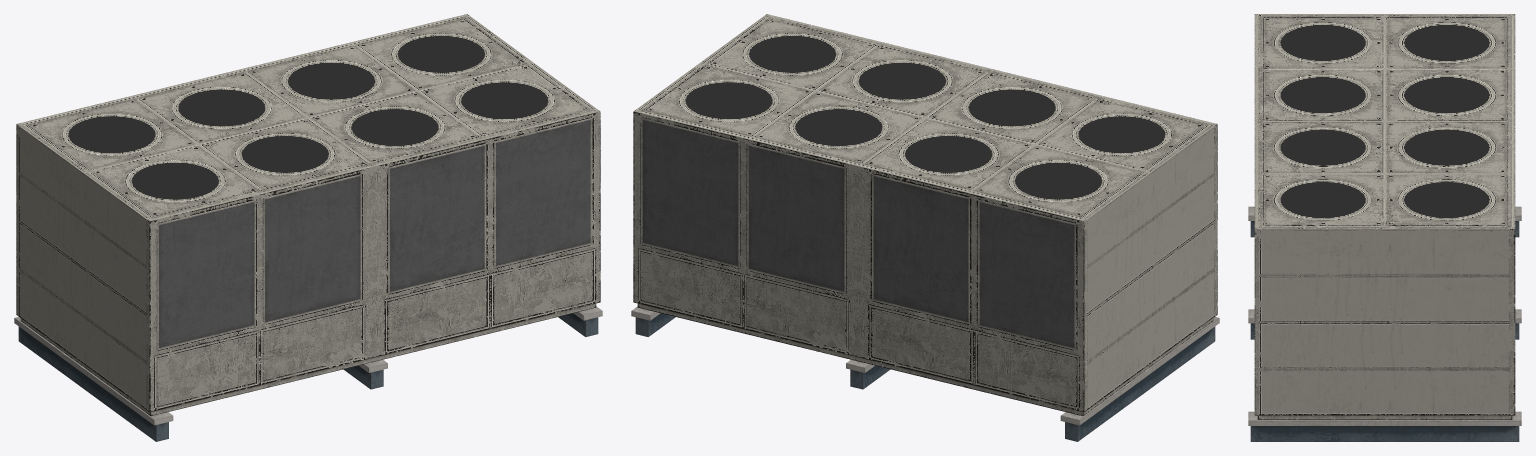
File: jctRoofEquipFanA.fbx
The picture shows the model from 3 angles, left to right: view 1: azimuth 30°, elevation 25°; view 2: azimuth 150°, elevation 25°; view 3: azimuth 270°, elevation 25°; orthographic projection. The views are drawn at different scales.
Parts seen in each view (by area): view 1: jctRoofEquipFanA; view 2: jctRoofEquipFanA; view 3: jctRoofEquipFanA.
Boxes of the visible parts, left/top/right/bottom form: jctRoofEquipFanA: left=14, top=14, right=602, bottom=441; jctRoofEquipFanA: left=631, top=14, right=1219, bottom=441; jctRoofEquipFanA: left=1248, top=14, right=1521, bottom=441.
Bounding box in the file's own units: 840 × 392 × 451.
